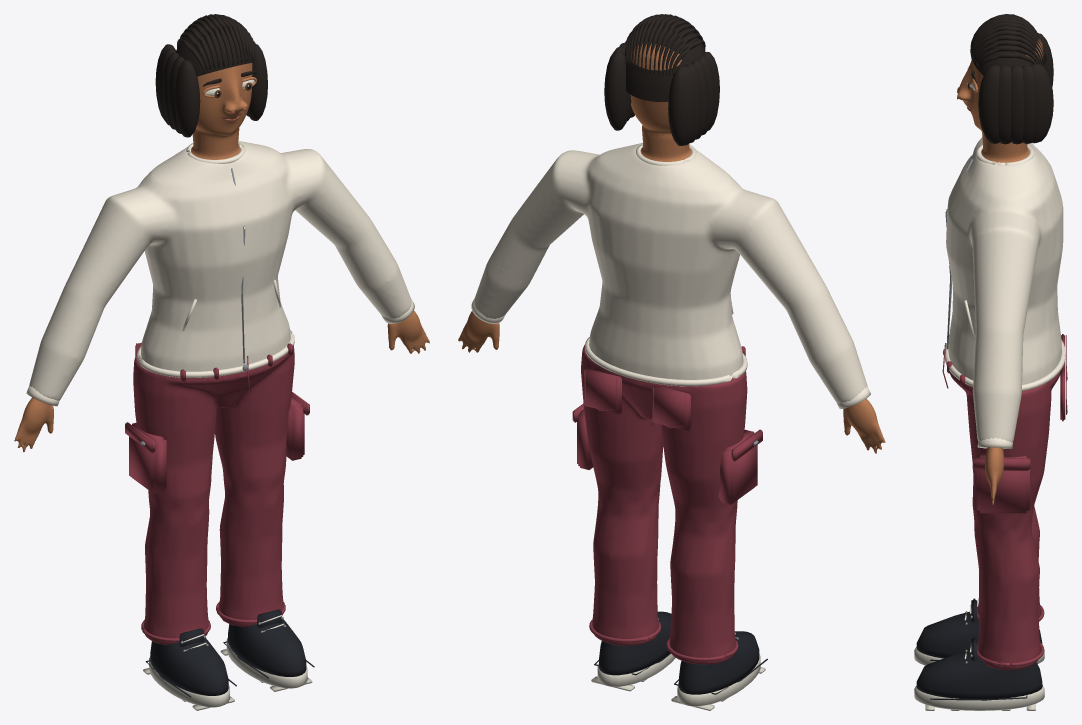
Rendered from NPC2_08_Civil_Female_Tracksuit.fbx.
3 views of the same model, side by side, from view 1: azimuth 30°, elevation 25°; view 2: azimuth 150°, elevation 25°; view 3: azimuth 270°, elevation 25° (orthographic). The views are drawn at different scales.
Visible parts, largest first — view 1: Garment_Top_Continuous.009, Trouser_Continuous.009, Skin_08_Civil_Female_Tracksuit, Shoe_Upper.018, Shoe_Upper.019, Cargo_Pocket.008, Hair_Bob.005, Hair_Cap.009, Top_Hem.009, Hair_Bob.011, Cargo_Pocket.009, Shoe_Sole.019 (+1 smaller); view 2: Garment_Top_Continuous.009, Trouser_Continuous.009, Skin_08_Civil_Female_Tracksuit, Shoe_Upper.018, Shoe_Upper.019, Hair_Cap.009, Cargo_Pocket.008, Hair_Bob.006, Back_Pocket.019, Back_Pocket.018, Top_Hem.009, Hair_Bob (+3 smaller); view 3: Garment_Top_Continuous.009, Trouser_Continuous.009, Shoe_Upper.019, Skin_08_Civil_Female_Tracksuit, Cargo_Pocket.009, Shoe_Upper.018, Shoe_Sole.019, Hair_Bob.011, Hair_Bob.009, Hair_Bob.010, Hair_Bob.007, Hair_Bob.008 (+18 smaller).
Part boxes in pixels (<box>): Garment_Top_Continuous.009: <box>29,141,411,400</box>; Trouser_Continuous.009: <box>133,346,294,644</box>; Skin_08_Civil_Female_Tracksuit: <box>14,63,429,451</box>; Shoe_Upper.018: <box>150,638,228,695</box>; Shoe_Upper.019: <box>228,619,306,676</box>; Cargo_Pocket.008: <box>129,422,166,494</box>; Hair_Bob.005: <box>175,60,200,137</box>; Hair_Cap.009: <box>176,24,254,76</box>; Top_Hem.009: <box>136,330,294,377</box>; Hair_Bob.011: <box>247,43,267,120</box>; Cargo_Pocket.009: <box>286,397,304,460</box>; Shoe_Sole.019: <box>226,637,307,688</box>; Garment_Top_Continuous.009: <box>474,143,867,403</box>; Trouser_Continuous.009: <box>581,345,747,664</box>; Skin_08_Civil_Female_Tracksuit: <box>458,42,885,453</box>; Shoe_Upper.018: <box>678,631,759,694</box>; Shoe_Upper.019: <box>599,611,671,675</box>; Hair_Cap.009: <box>625,24,705,101</box>; Cargo_Pocket.008: <box>718,429,757,504</box>; Hair_Bob.006: <box>604,51,631,130</box>; Back_Pocket.019: <box>583,368,621,414</box>; Back_Pocket.018: <box>652,385,690,431</box>; Top_Hem.009: <box>585,337,747,386</box>; Hair_Bob: <box>668,66,684,145</box>; Garment_Top_Continuous.009: <box>946,138,1063,442</box>; Trouser_Continuous.009: <box>950,372,1060,669</box>; Shoe_Upper.019: <box>916,650,1042,699</box>; Skin_08_Civil_Female_Tracksuit: <box>957,38,1043,504</box>; Cargo_Pocket.009: <box>976,453,1029,513</box>; Shoe_Upper.018: <box>916,611,1042,658</box>; Shoe_Sole.019: <box>914,686,1044,710</box>; Hair_Bob.011: <box>978,65,999,143</box>; Hair_Bob.009: <box>1011,65,1023,144</box>; Hair_Bob.010: <box>998,65,1010,144</box>; Hair_Bob.007: <box>1030,64,1047,143</box>; Hair_Bob.008: <box>1022,65,1035,143</box>.
Size of the model in its own units: 1.16 by 1.74 by 0.3628.
